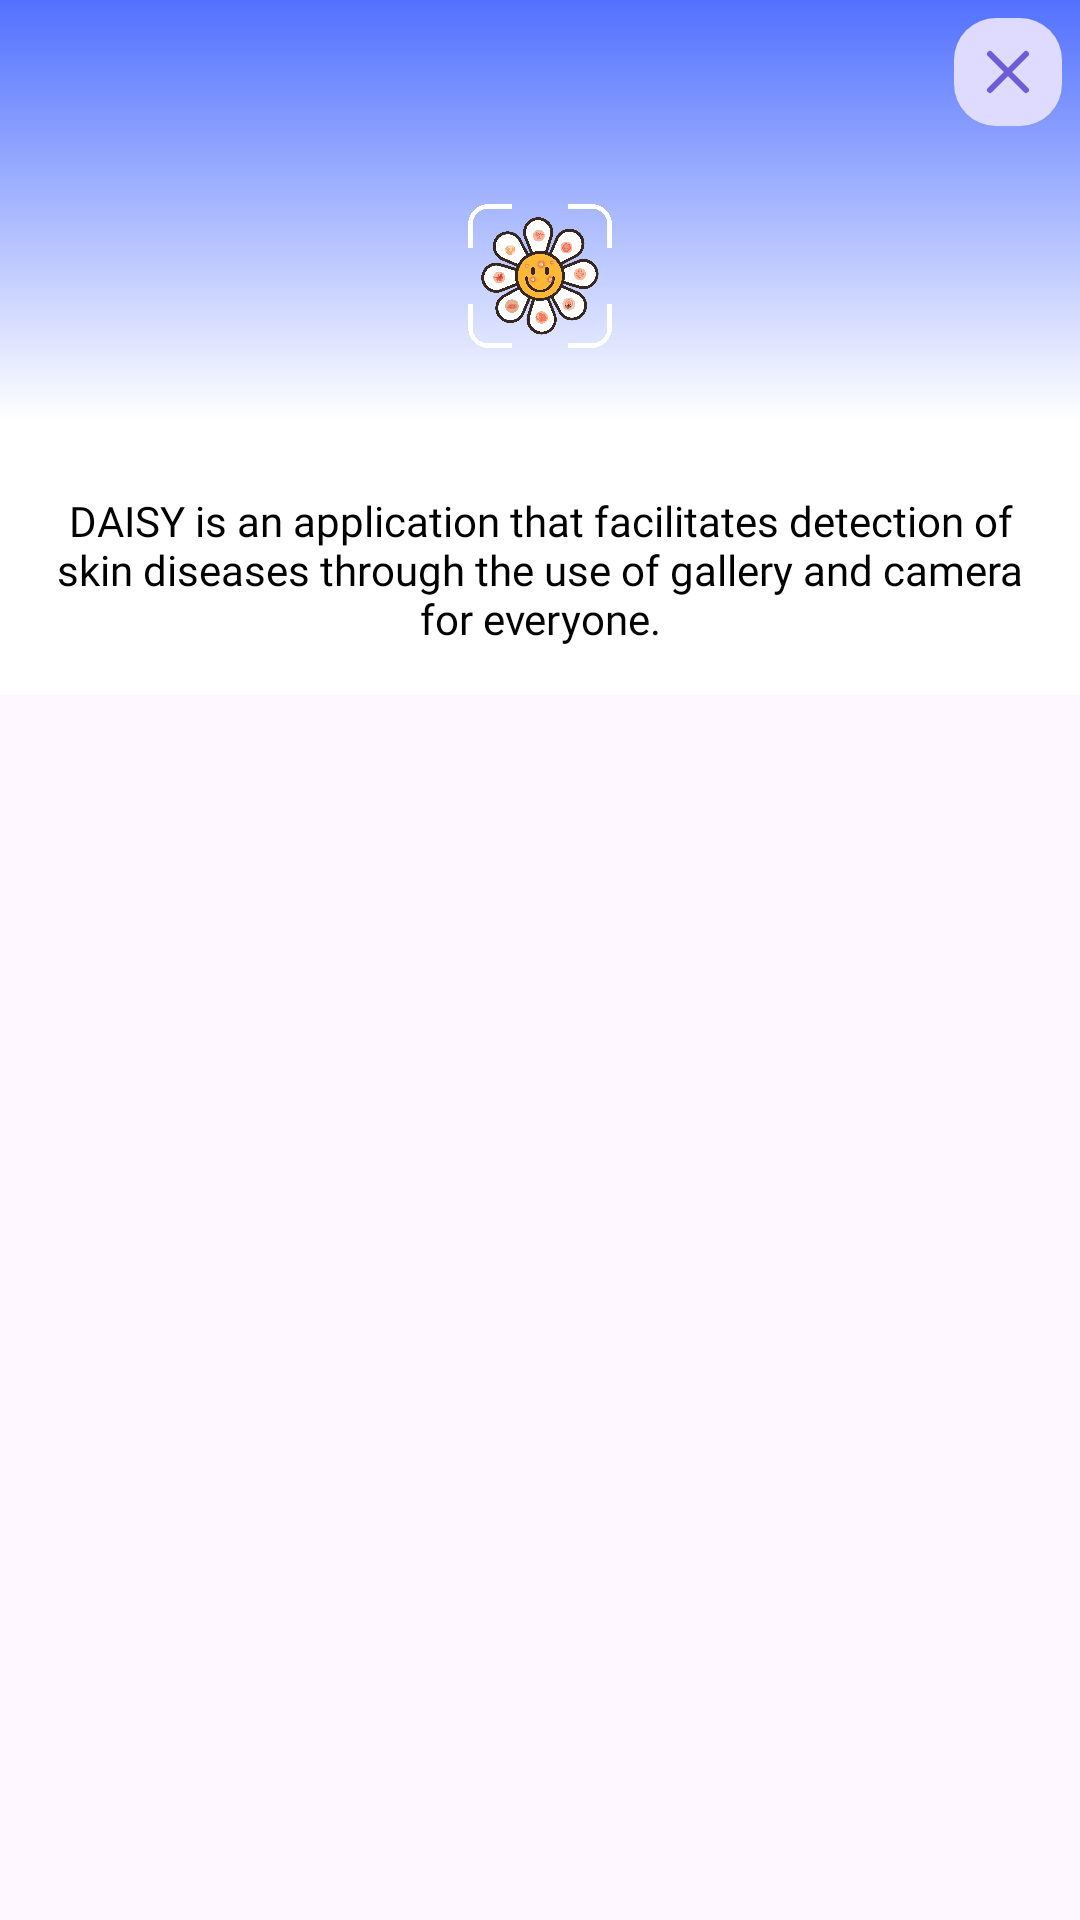

Screen size 1080px×1920px. Icon name, then its center in pixels as (x=x, y=y):
close: (x=1008, y=72)
